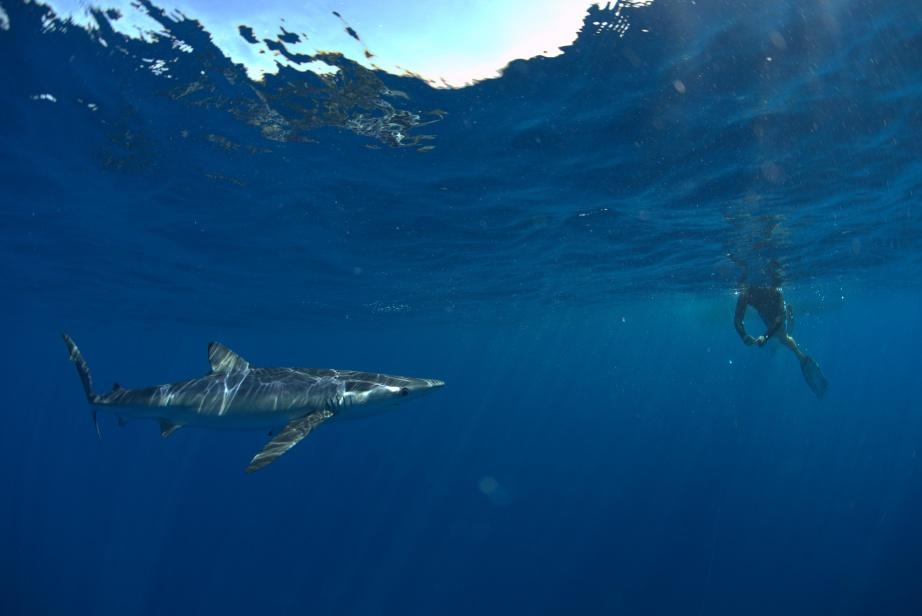Azul: (53, 326, 465, 483)
